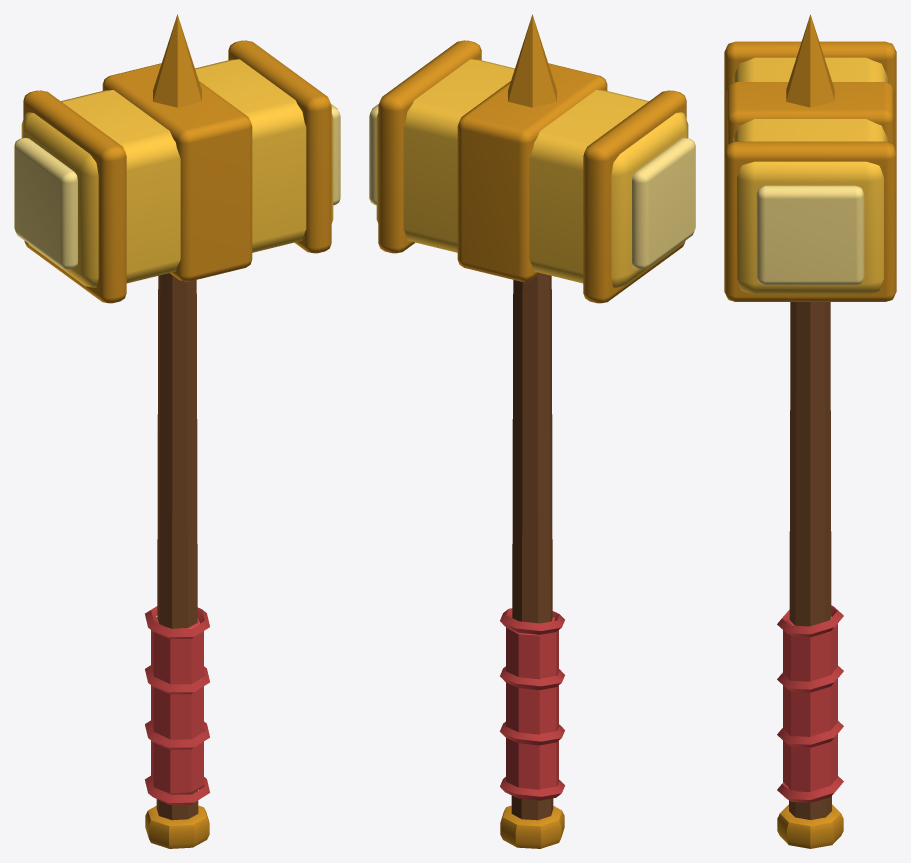
File: GoldWarHammer.fbx
3 renders of one model, left to right at view 1: azimuth 30°, elevation 25°; view 2: azimuth 150°, elevation 25°; view 3: azimuth 270°, elevation 25°, orthographic.
Parts seen in each view (by area): view 1: GoldWarHammer; view 2: GoldWarHammer; view 3: GoldWarHammer.
Boxes of the visible parts, x1,y1,x2,y2 form: GoldWarHammer: [14, 14, 340, 848]; GoldWarHammer: [369, 14, 695, 848]; GoldWarHammer: [724, 14, 896, 848].
Bounding box in the file's own units: 1.5 × 4.23 × 0.8.
1 material, 1 textured.
